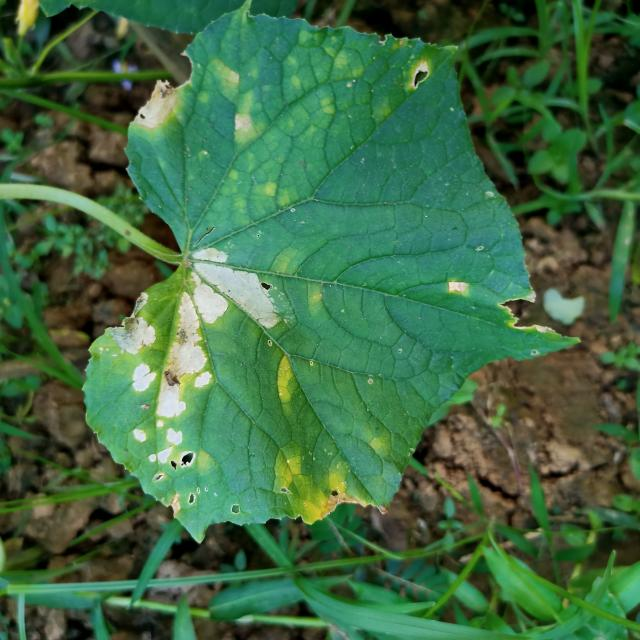disease_cucumber: (119, 238, 284, 503), (270, 437, 354, 532), (207, 55, 270, 147), (268, 355, 298, 416)
